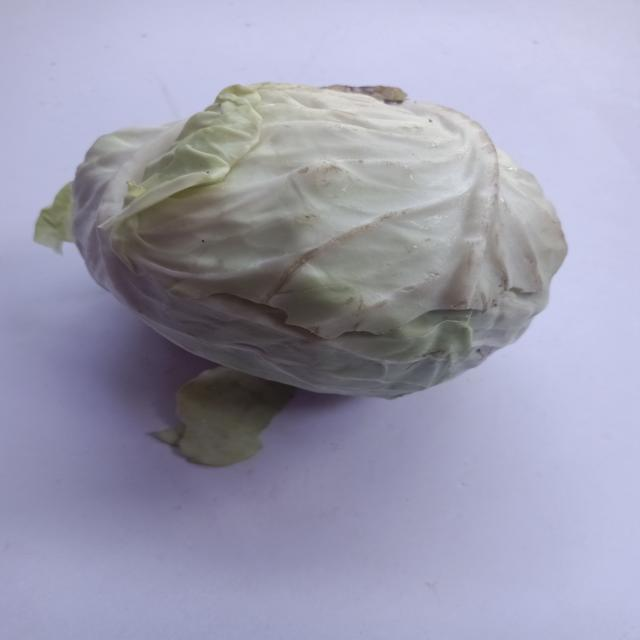Cabbage: (31, 73, 574, 476)
